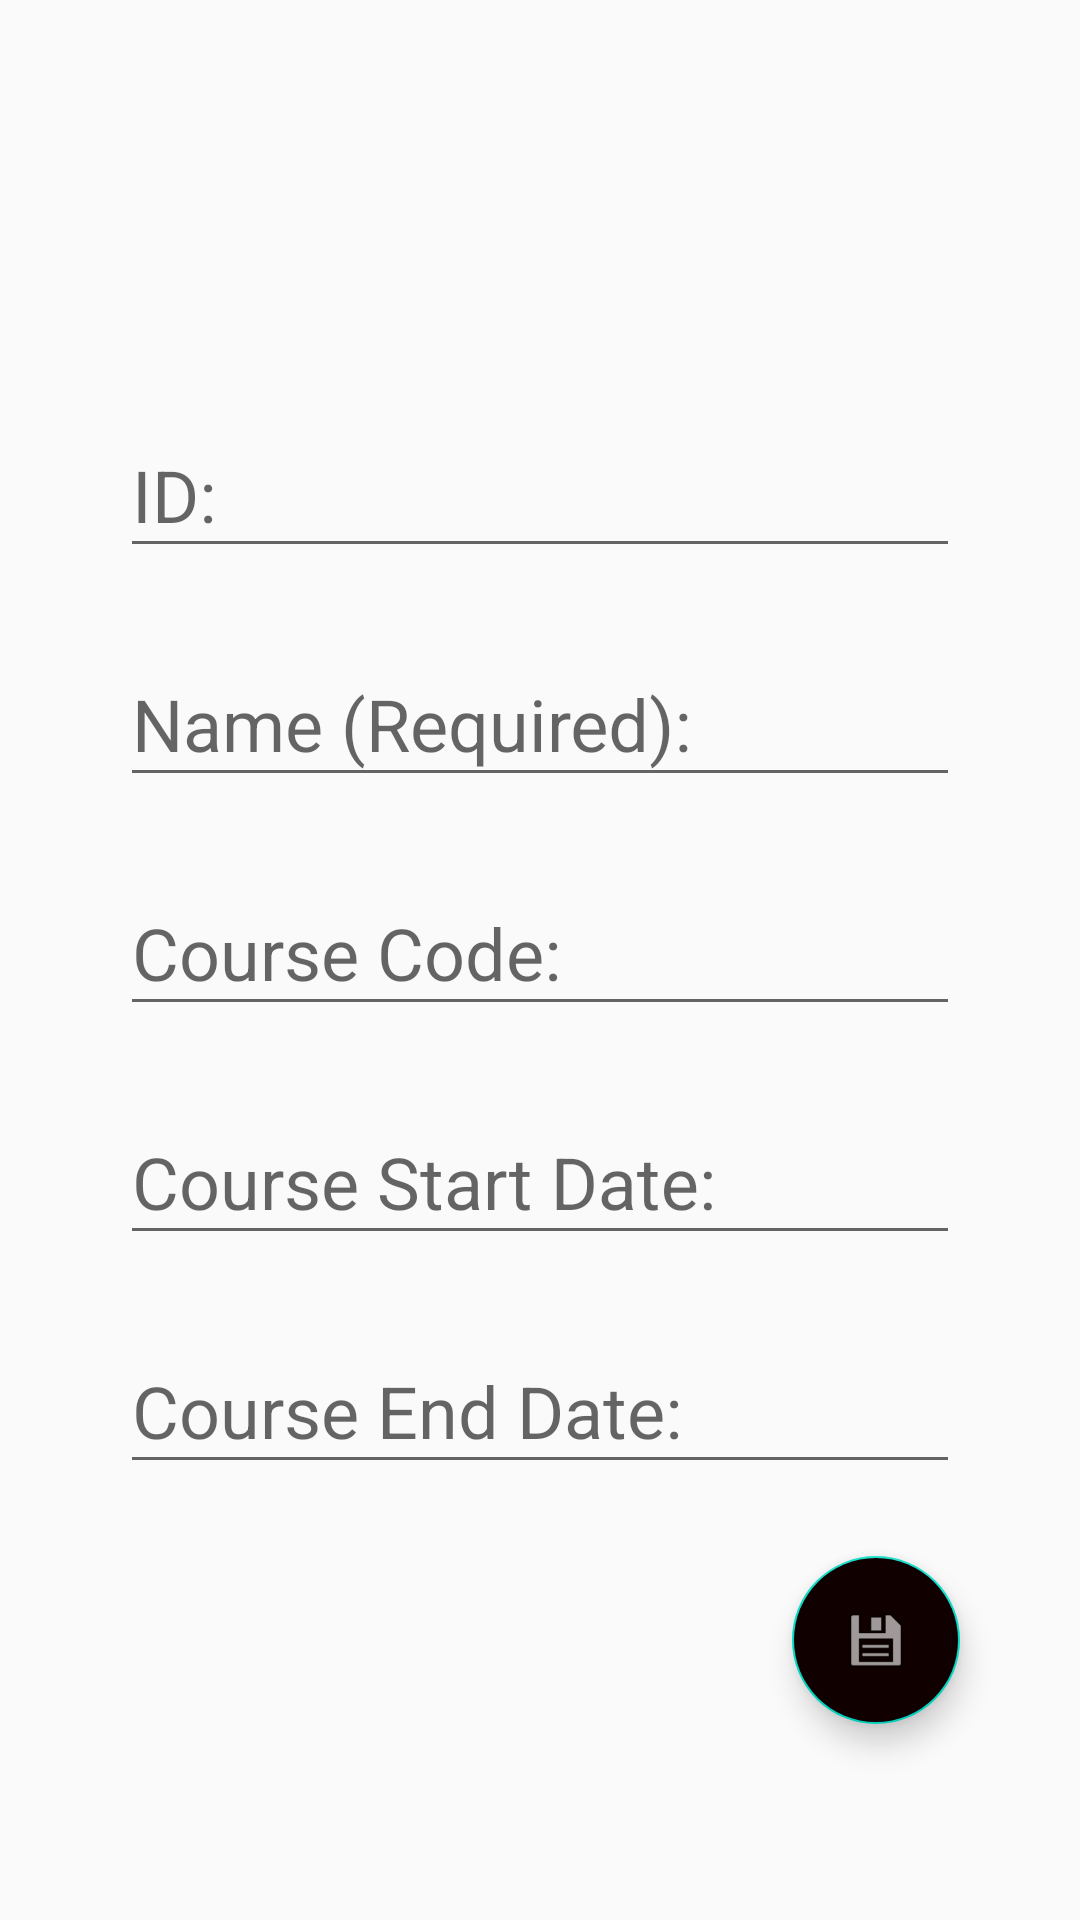

Screen size 1080px×1920px. Icon name, then its center in pixels as point (x, y):
save: point (876, 1640)
